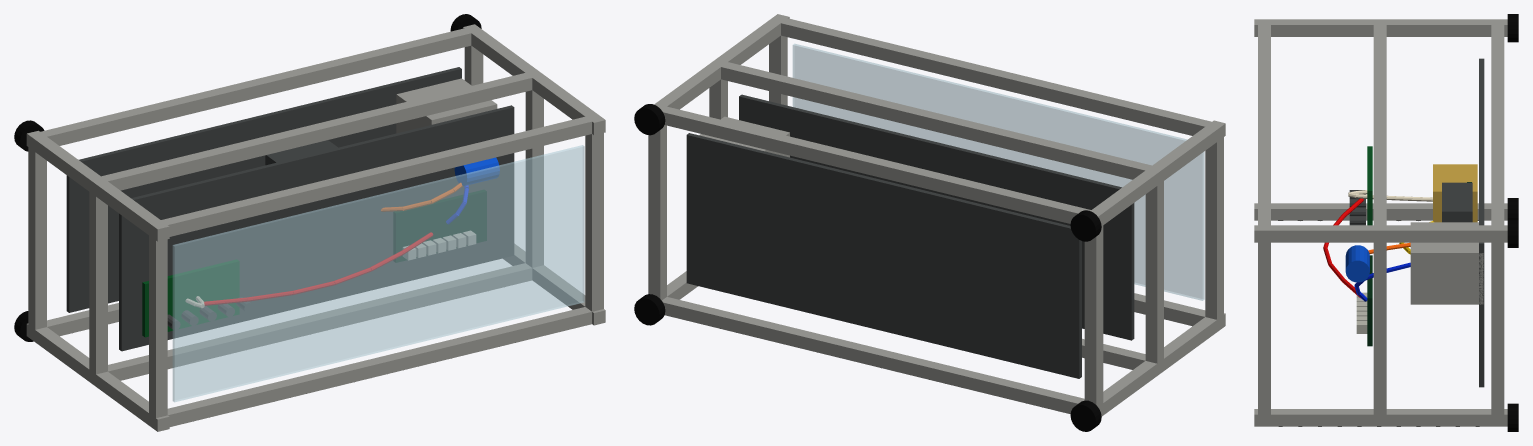
File: 01_open_metal_electronics_rack.obj
3 renders of one model, left to right at view 1: azimuth 30°, elevation 25°; view 2: azimuth 150°, elevation 25°; view 3: azimuth 270°, elevation 25°, orthographic. The views are drawn at different scales.
Parts seen in each view (by area): view 1: rack_top_clear_plate, rack_perforated_shelf_1, rack_perforated_shelf_0, rack_frontback_xrail_z2_0_5, rack_frontback_xrail_z1_0_5, rack_frontback_xrail_z2_-0_5, rack_frontback_xrail_z0_0_5, rack_frontback_xrail_z1_-0_5, rack_pcb_left_mid, rack_pcb_right_mid, rack_side_yrail_z2_-1_2, rack_side_yrail_z1_-1_2 (+12 smaller); view 2: rack_perforated_shelf_0, rack_top_clear_plate, rack_perforated_shelf_1, rack_frontback_xrail_z2_0_5, rack_frontback_xrail_z1_0_5, rack_frontback_xrail_z0_0_5, rack_frontback_xrail_z0_-0_5, rack_side_yrail_z0_-1_2, rack_side_yrail_z2_-1_2, rack_side_yrail_z1_-1_2, rack_side_yrail_z0_1_2, rack_vertical_post_0_1 (+11 smaller); view 3: rack_silver_power_supply, rack_vertical_post_1_1, rack_vertical_post_1_0, rack_vertical_post_0_1, rack_frontback_xrail_z1_0_5, rack_frontback_xrail_z0_0_5, rack_frontback_xrail_z2_0_5, rack_vertical_post_0_0, rack_side_yrail_z0_1_2, rack_side_yrail_z1_1_2, rack_side_yrail_z2_1_2, rack_perforated_shelf_0 (+9 smaller).
Part boxes in pixels (x1,y1,x2,y2): rack_top_clear_plate: [172, 145, 584, 402]; rack_perforated_shelf_1: [119, 105, 514, 351]; rack_perforated_shelf_0: [66, 67, 461, 312]; rack_frontback_xrail_z2_0_5: [158, 115, 595, 236]; rack_frontback_xrail_z1_0_5: [95, 71, 537, 190]; rack_frontback_xrail_z2_-0_5: [167, 307, 591, 426]; rack_frontback_xrail_z0_0_5: [39, 27, 476, 145]; rack_frontback_xrail_z1_-0_5: [108, 263, 532, 380]; rack_pcb_left_mid: [142, 259, 239, 337]; rack_pcb_right_mid: [393, 189, 486, 262]; rack_side_yrail_z2_-1_2: [149, 229, 167, 422]; rack_side_yrail_z1_-1_2: [89, 186, 107, 380]; rack_perforated_shelf_0: [686, 133, 1081, 378]; rack_top_clear_plate: [792, 43, 1204, 300]; rack_perforated_shelf_1: [739, 94, 1134, 340]; rack_frontback_xrail_z2_0_5: [776, 17, 1217, 135]; rack_frontback_xrail_z1_0_5: [721, 62, 1156, 179]; rack_frontback_xrail_z0_0_5: [659, 105, 1095, 223]; rack_frontback_xrail_z0_-0_5: [662, 297, 1084, 414]; rack_side_yrail_z0_-1_2: [1084, 225, 1103, 409]; rack_side_yrail_z2_-1_2: [1205, 135, 1223, 325]; rack_side_yrail_z1_-1_2: [1145, 175, 1163, 365]; rack_side_yrail_z0_1_2: [648, 125, 666, 300]; rack_vertical_post_0_1: [1090, 120, 1225, 225]; rack_silver_power_supply: [1410, 222, 1483, 304]; rack_vertical_post_1_1: [1254, 225, 1507, 242]; rack_vertical_post_1_0: [1254, 409, 1507, 426]; rack_vertical_post_0_1: [1254, 19, 1507, 36]; rack_frontback_xrail_z1_0_5: [1373, 22, 1386, 227]; rack_frontback_xrail_z0_0_5: [1491, 22, 1504, 227]; rack_frontback_xrail_z2_0_5: [1258, 22, 1270, 227]; rack_vertical_post_0_0: [1254, 203, 1507, 220]; rack_side_yrail_z0_1_2: [1491, 236, 1504, 420]; rack_side_yrail_z1_1_2: [1373, 236, 1386, 420]; rack_side_yrail_z2_1_2: [1258, 236, 1270, 420]; rack_perforated_shelf_0: [1479, 58, 1484, 387].
Size of the model in its own units: 2.54 by 1.14 by 1.3.
